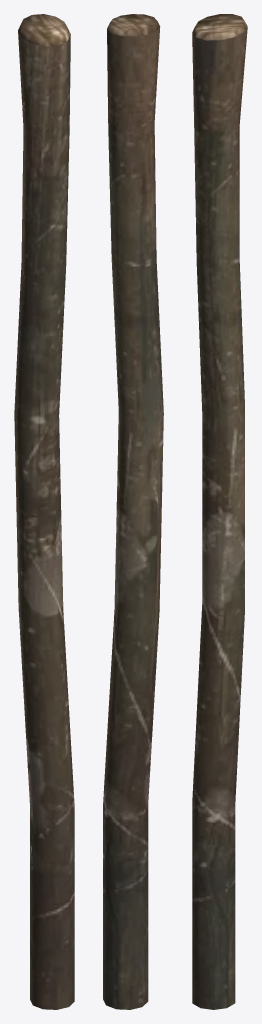
3 renders of one model, left to right at view 1: azimuth 30°, elevation 25°; view 2: azimuth 210°, elevation 25°; view 3: azimuth 270°, elevation 25°, orthographic.
Visible parts, largest first — view 1: SM_Wicker_Fence_Post_LOD0; view 2: SM_Wicker_Fence_Post_LOD0; view 3: SM_Wicker_Fence_Post_LOD0.
Part boxes in pixels (x1=…): SM_Wicker_Fence_Post_LOD0: x1=14, y1=14, x2=74, y2=1009; SM_Wicker_Fence_Post_LOD0: x1=103, y1=14, x2=163, y2=1009; SM_Wicker_Fence_Post_LOD0: x1=192, y1=14, x2=247, y2=1009.
Bounding box in the file's own units: 0.0979 × 1.84 × 0.095.
1 material, 1 textured.
